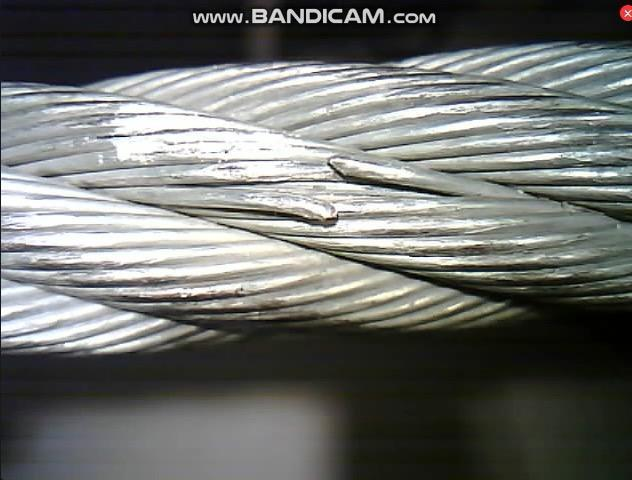break: (293, 148, 364, 237)
